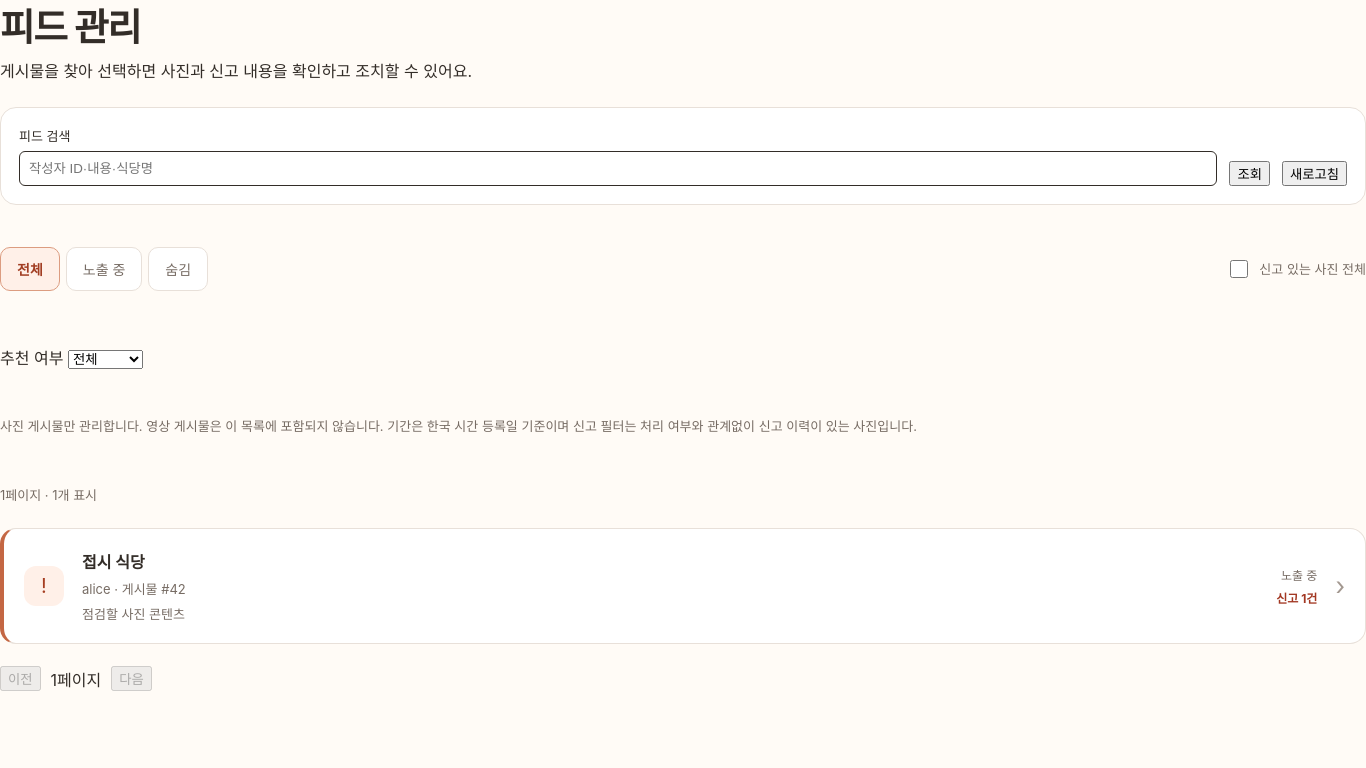
Test: recommend permission is independent of moderation permission
What coordinates should you click on to do the following:
click the button with aria-label "피드 #42 검토"
I would click on:
 (683, 586)
Its box is x1=0 y1=528 x2=1365 y2=644.
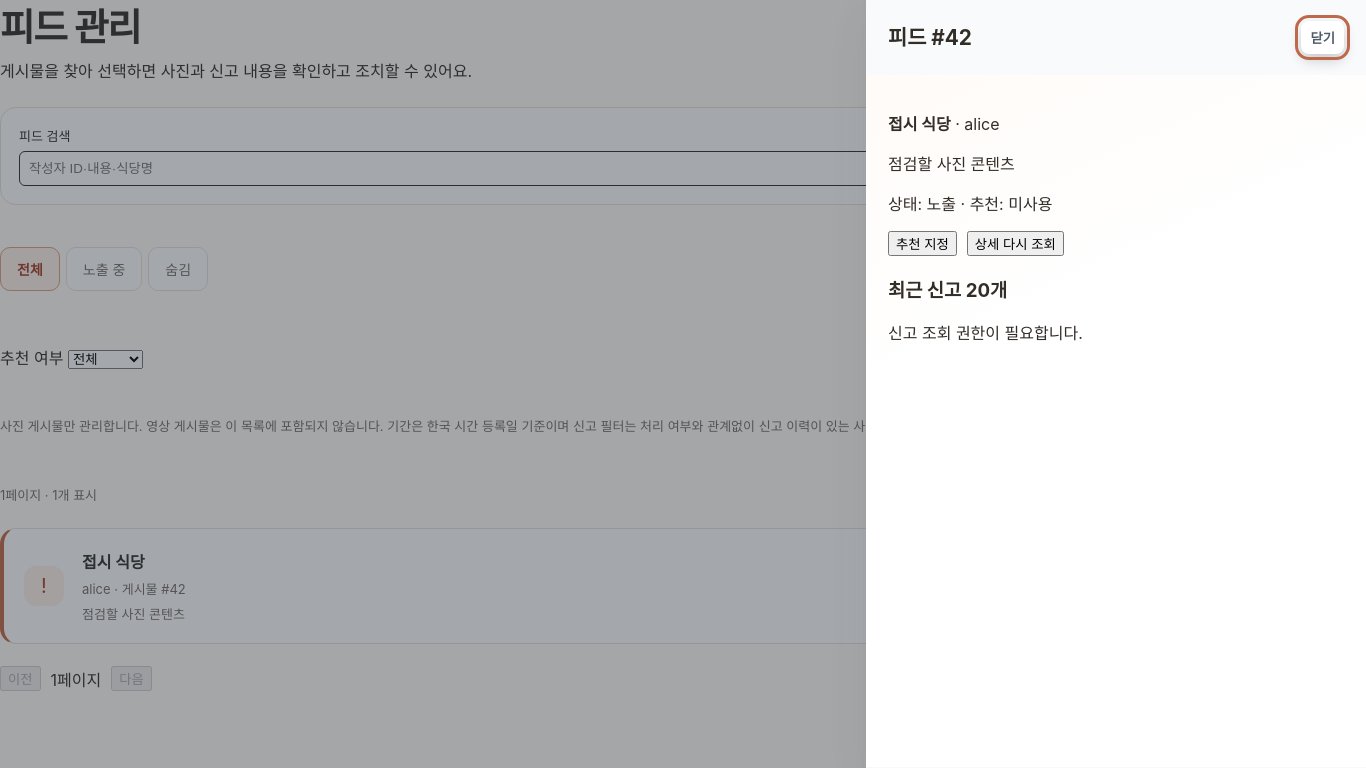
expect the button "추천 지정" is shown: met, box x1=888 y1=231 x2=957 y2=256
